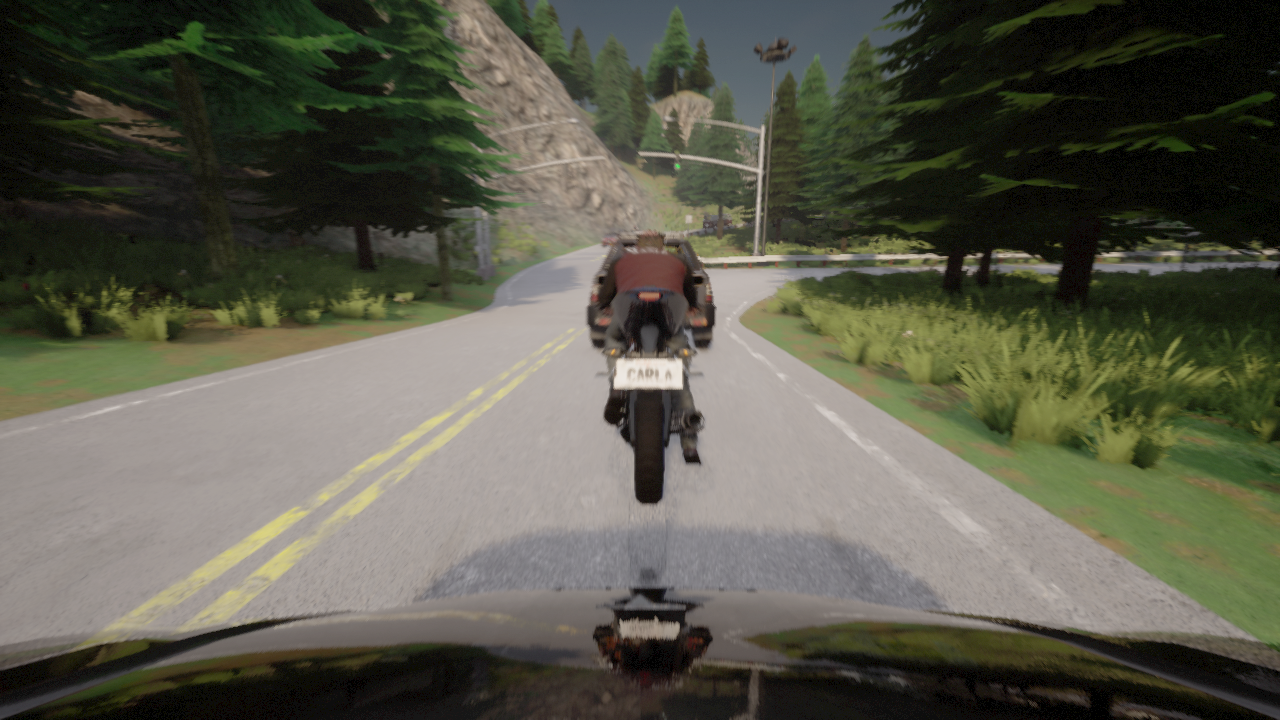cyclist: (0, 588, 1279, 719), (595, 274, 705, 503), (587, 234, 715, 348), (702, 213, 733, 229), (601, 228, 626, 246), (634, 231, 645, 233), (631, 229, 636, 233), (781, 219, 784, 220)
